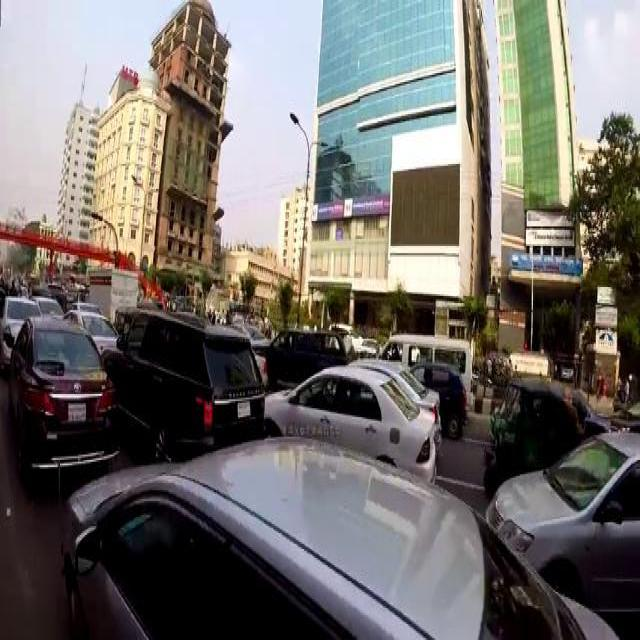car: (58, 429, 620, 636), (486, 426, 638, 619), (264, 364, 434, 478), (5, 314, 119, 469), (345, 356, 441, 444), (410, 360, 468, 437), (0, 294, 40, 360), (64, 308, 118, 349), (30, 286, 70, 315), (357, 334, 381, 352)
pickup: (82, 265, 138, 311)
suv: (100, 308, 266, 456), (252, 326, 346, 378)
three wheelers -CNG-: (482, 377, 588, 488)
van: (374, 330, 474, 406)
